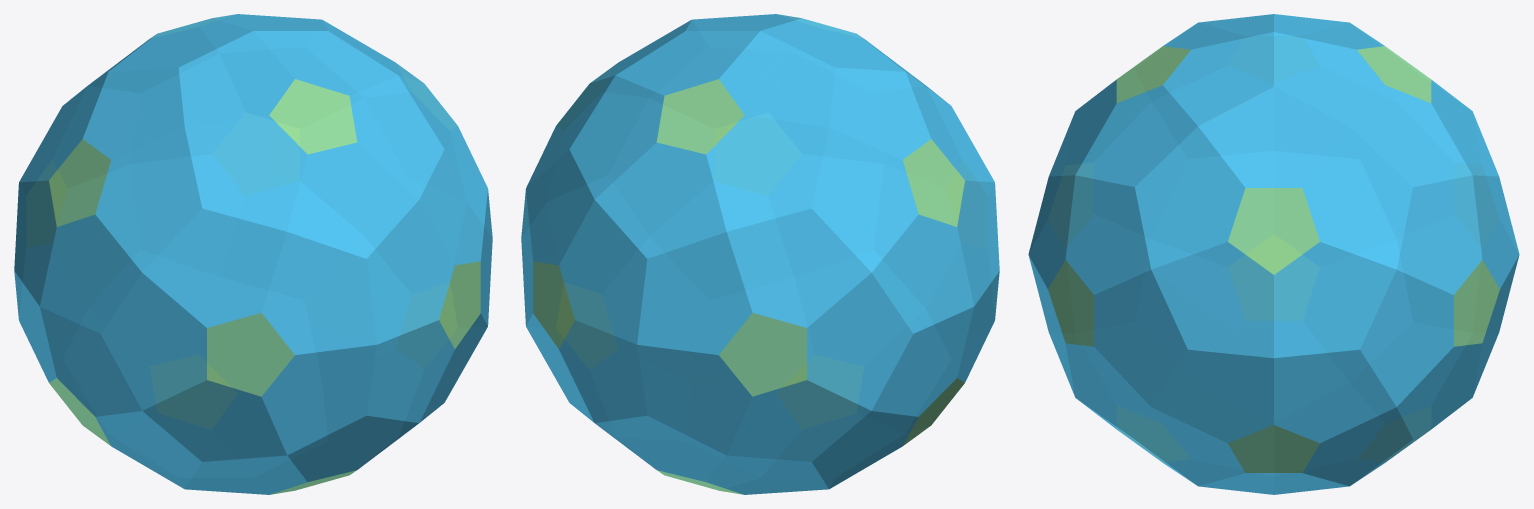
The model's file is TruncatedDeltoidalHexecontahedron.obj.
3 renders of one model, left to right at view 1: azimuth 30°, elevation 25°; view 2: azimuth 150°, elevation 25°; view 3: azimuth 270°, elevation 25°, orthographic.
Size of the model in its own units: 2.06 by 2.06 by 2.06.
